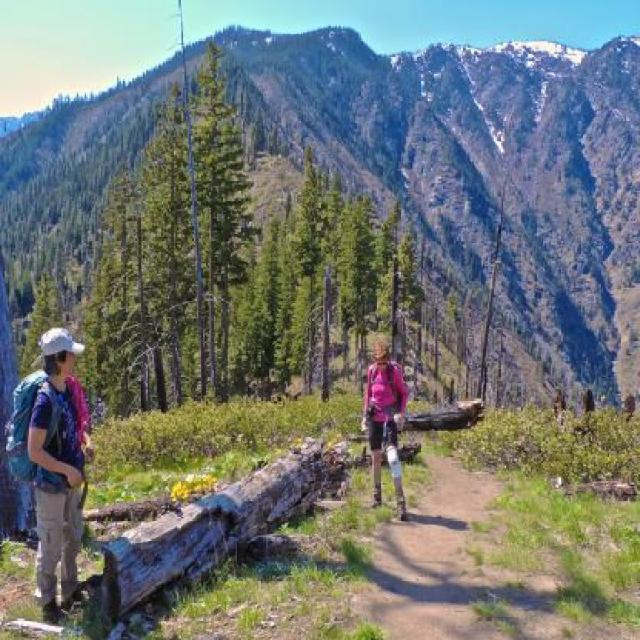Person: (24, 329, 96, 623), (372, 340, 418, 512)
